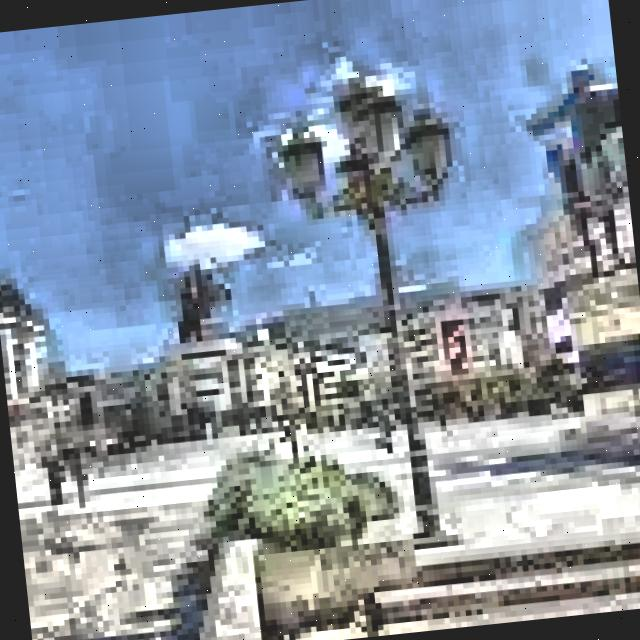alexander the great monument: (156, 262, 242, 433)
stone bridge: (19, 498, 284, 640)
